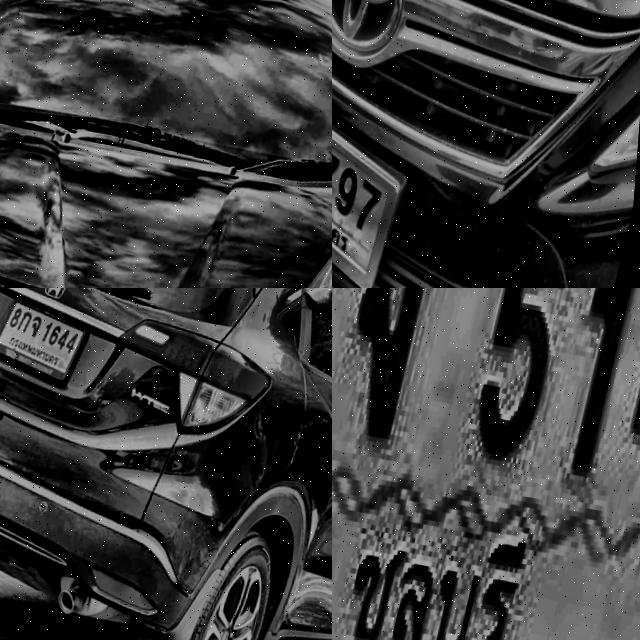license-plate: (332, 288, 640, 640), (332, 41, 433, 288), (0, 289, 102, 392)
